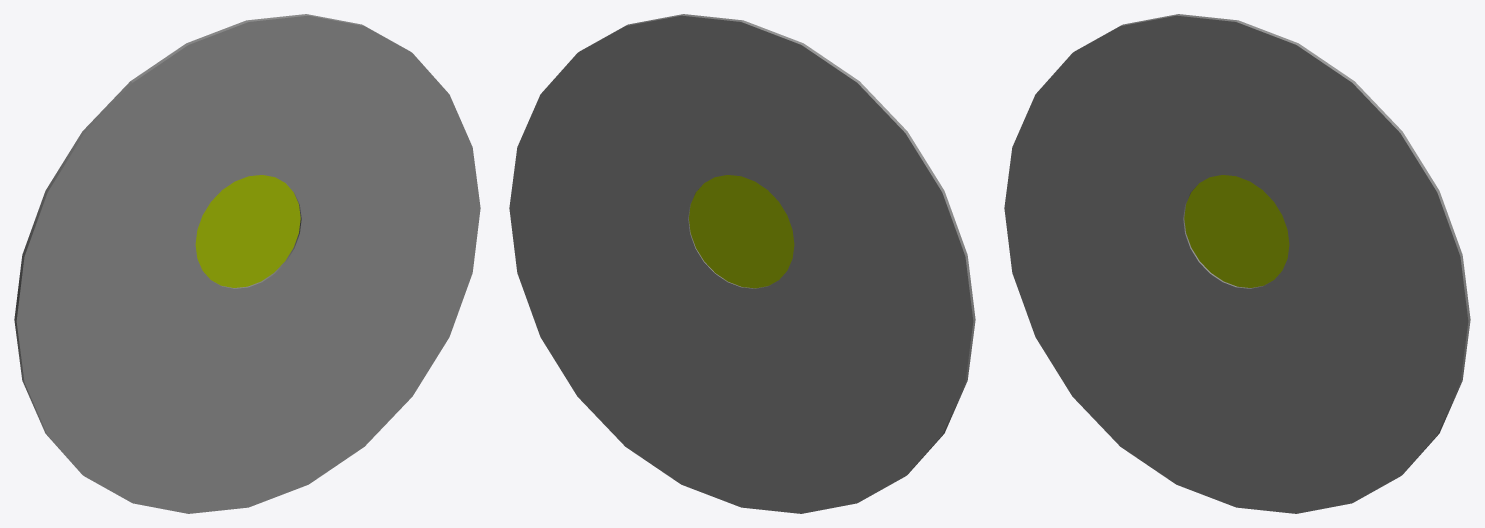
The model's file is Door.FBX.
3 renders of one model, left to right at view 1: azimuth 30°, elevation 25°; view 2: azimuth 150°, elevation 25°; view 3: azimuth 330°, elevation 25°, orthographic.
Parts seen in each view (by area): view 1: Cylinder018, Object011; view 2: Cylinder018, Object011; view 3: Cylinder018, Object011.
Boxes of the visible parts, x1,y1,x2,y2 form: Cylinder018: [14, 20, 300, 513]; Object011: [247, 14, 480, 507]; Cylinder018: [689, 20, 975, 513]; Object011: [509, 14, 742, 507]; Cylinder018: [1004, 14, 1289, 507]; Object011: [1236, 20, 1470, 513].
Bounding box in the file's own units: 82.56 × 82.56 × 0.6937.
